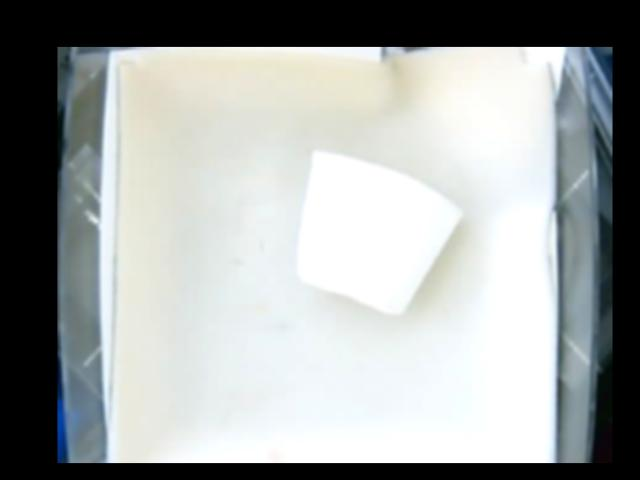Cup: (295, 151, 460, 317)
